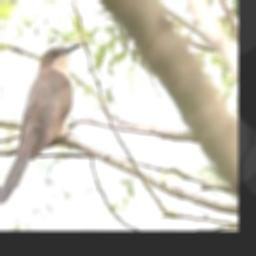Cuckoo: (0, 44, 80, 205)
